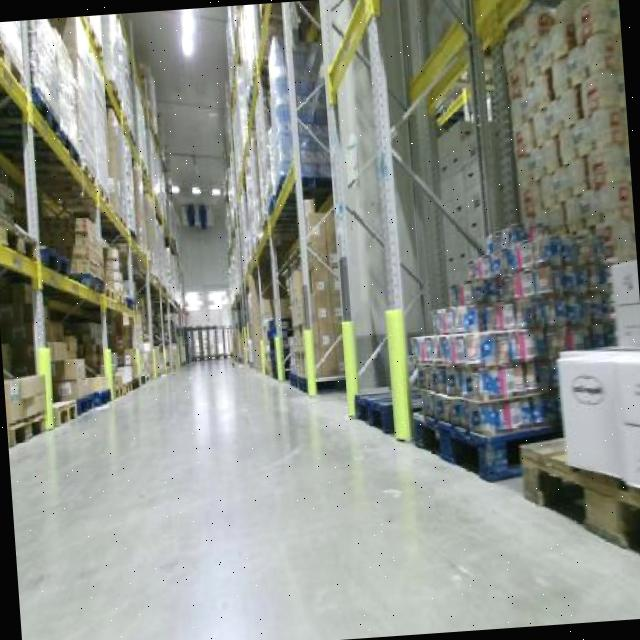pallet: (514, 432, 640, 585), (406, 394, 530, 504), (334, 385, 404, 437), (6, 411, 54, 456)
